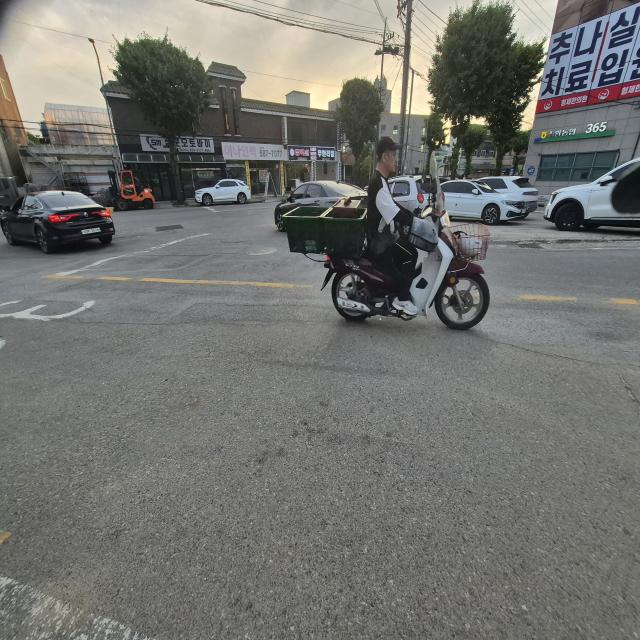car: (542, 152, 640, 231), (0, 190, 116, 254), (77, 161, 157, 219), (438, 178, 532, 225), (277, 179, 351, 233), (369, 168, 447, 217), (193, 179, 252, 206)
motorcycle: (282, 137, 494, 335)
